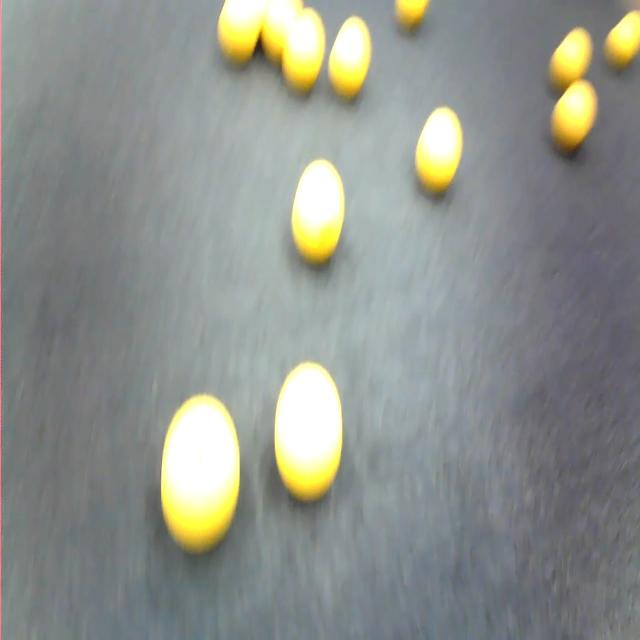fuel: (153, 375, 244, 566), (271, 349, 346, 510), (284, 142, 354, 265), (411, 89, 461, 201), (544, 74, 602, 164), (329, 8, 377, 116), (280, 8, 330, 91), (248, 0, 306, 68), (208, 0, 264, 65), (546, 28, 597, 88), (605, 4, 640, 81), (386, 0, 436, 36)
